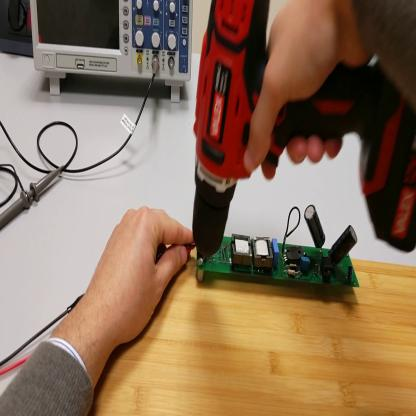electric screwdriver: (192, 4, 416, 265)
hand: (245, 4, 360, 181), (90, 206, 194, 345)
high voltage board: (157, 205, 365, 296)
oscilloscope: (30, 2, 191, 104)
oscilloscope probe tip: (2, 167, 64, 233)
socket: (1, 4, 35, 59)
working area: (88, 246, 416, 416)
